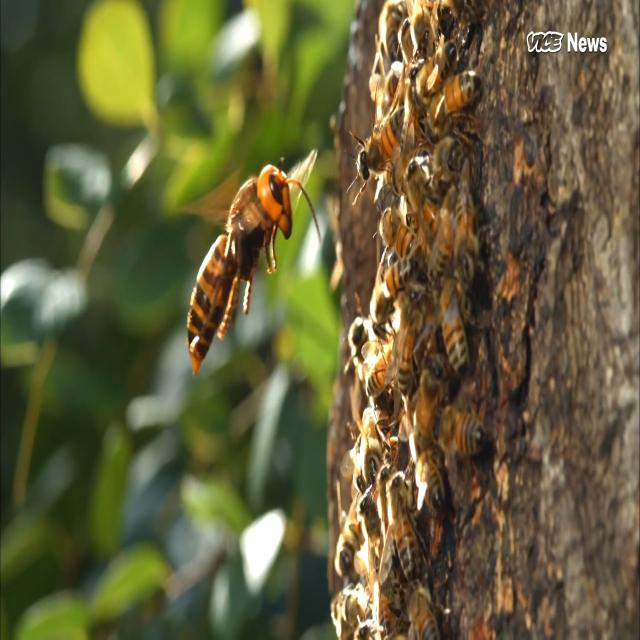Bees: (348, 76, 405, 204), (379, 462, 429, 586), (370, 244, 421, 342), (424, 70, 485, 145), (454, 157, 482, 293), (430, 402, 488, 467)
Hornets: (176, 147, 322, 376)
